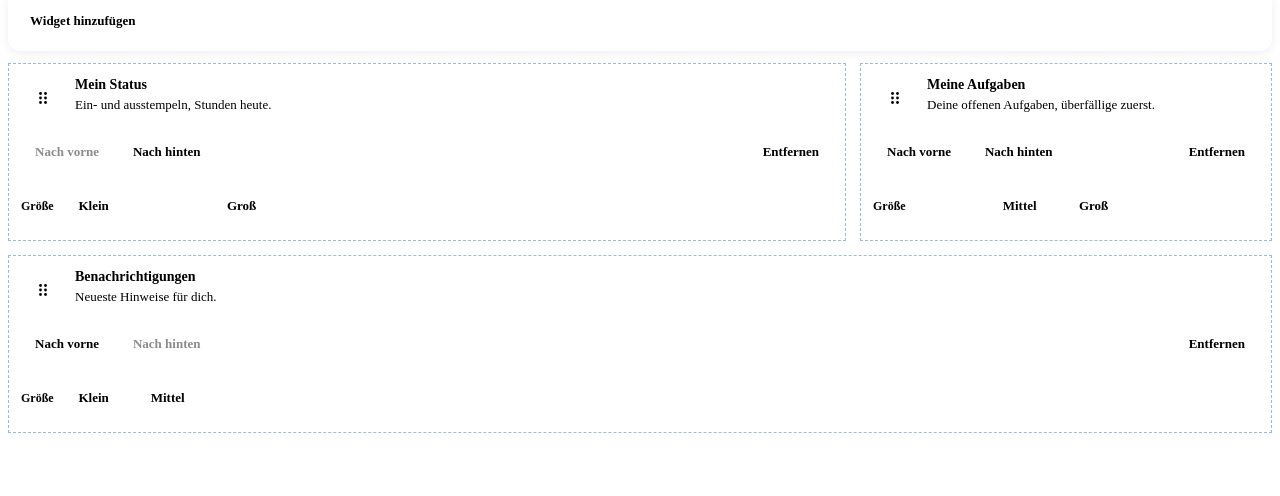
DashboardEditor — moving › moves with the buttons, announces the new position, and disables them at the ends
Expected: the button with aria-label "„Mein Status“ nach vorne verschieben" is disabled, [21,130,113,174]
Expected: the button with aria-label "„Benachrichtigungen“ nach hinten verschieben" is disabled, [119,322,214,366]
Click the button with aria-label "„Mein Status“ nach hinten verschieben" at (167, 152), box [119,130,214,174]
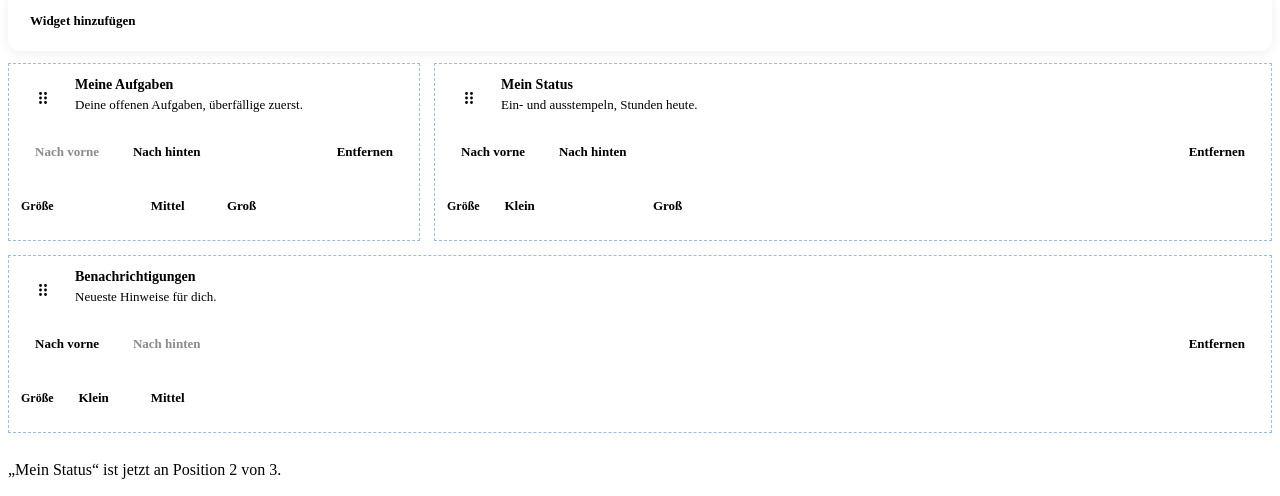
Expected: the button with aria-label "„Meine Aufgaben“ nach vorne verschieben" is disabled, [21,130,113,174]
Now the text "„Mein Status“ ist jetzt an Position 2 von 3." is shown, box [8,461,281,478]
Now the button with aria-label "„Mein Status“ nach vorne verschieben" is enabled, box [447,130,539,174]
